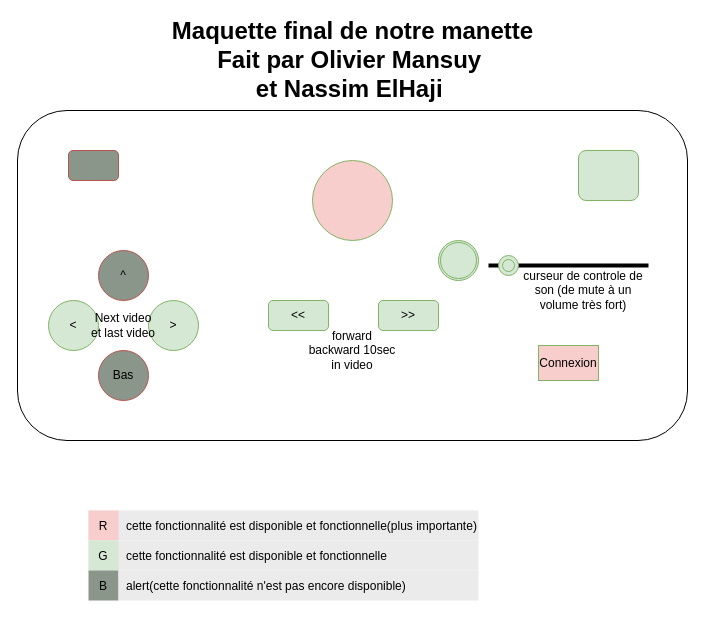
The diagram is 705 pixels wide and 618 high, and some of its shapes have lost their labels. The shapes that lost their labels are listed below. From the top down, each one's box as (x1, y1, x2, y2) in pixels, then its label:
(68, 150, 118, 180): Capture d'écran
(578, 150, 638, 200): +(ajout de video)
(312, 160, 392, 240): Pause et play
(438, 240, 478, 280): Mute
